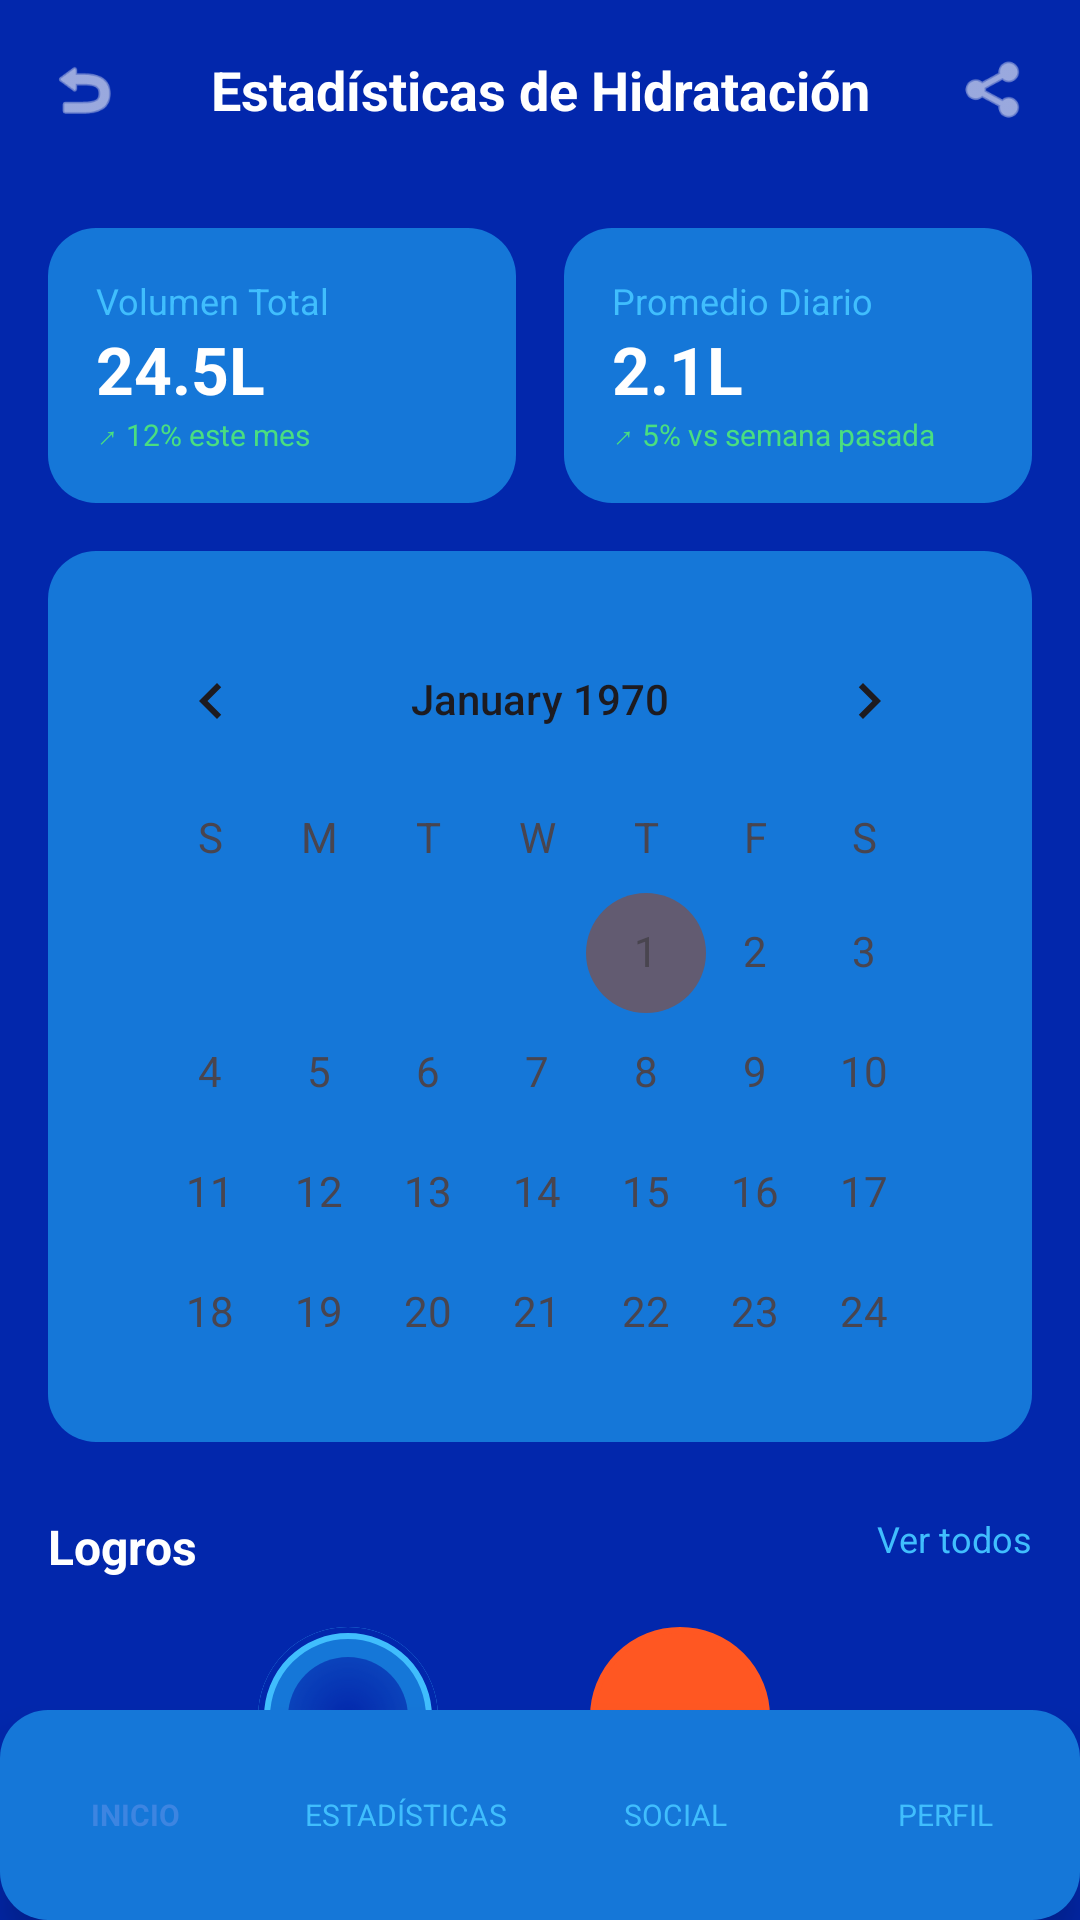

Icon bounding boxes for this 1080x1920 phone screenshot, format region(x1, y1, x2, y2):
revert: region(59, 67, 111, 114)
share: region(965, 61, 1019, 118)
